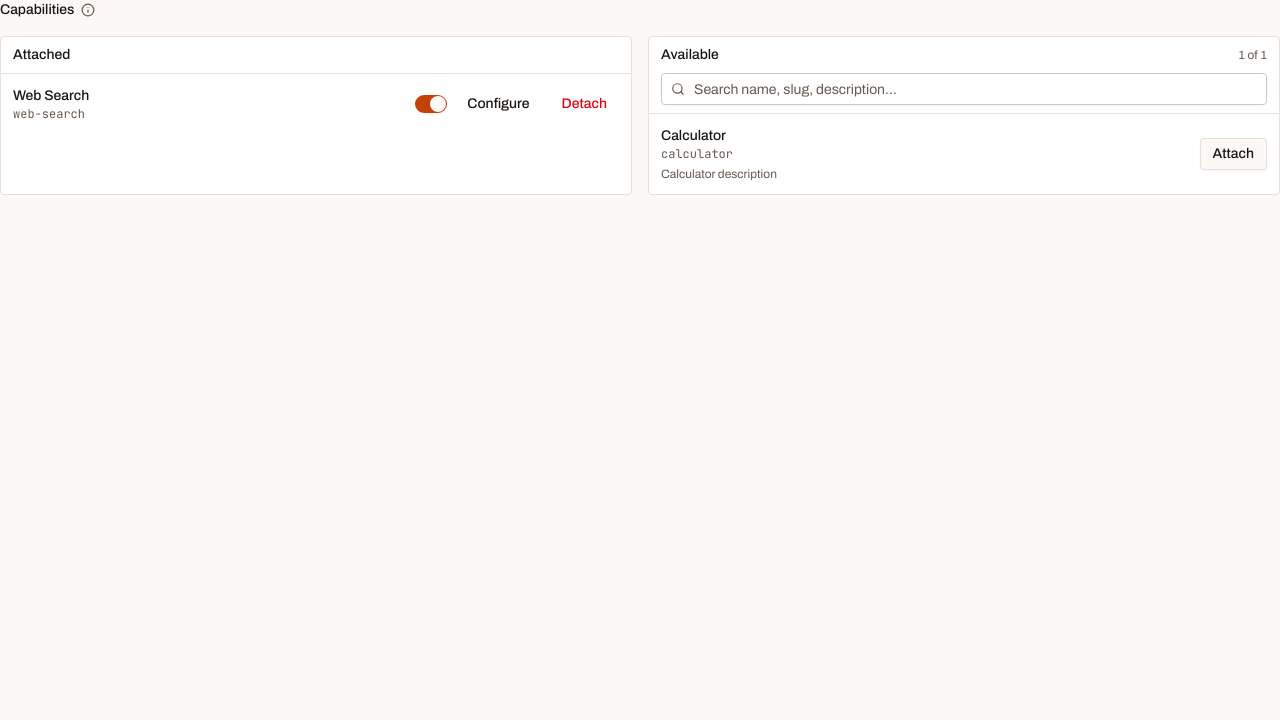
Test: AgentCapabilitiesTab › configure dialog validation › shows JSON parse error when customConfig is invalid JSON
Check: the text "Web Search" is shown, box x1=13 y1=86 x2=89 y2=106
Click the button "Configure" at (498, 104), box x1=455 y1=88 x2=542 y2=120
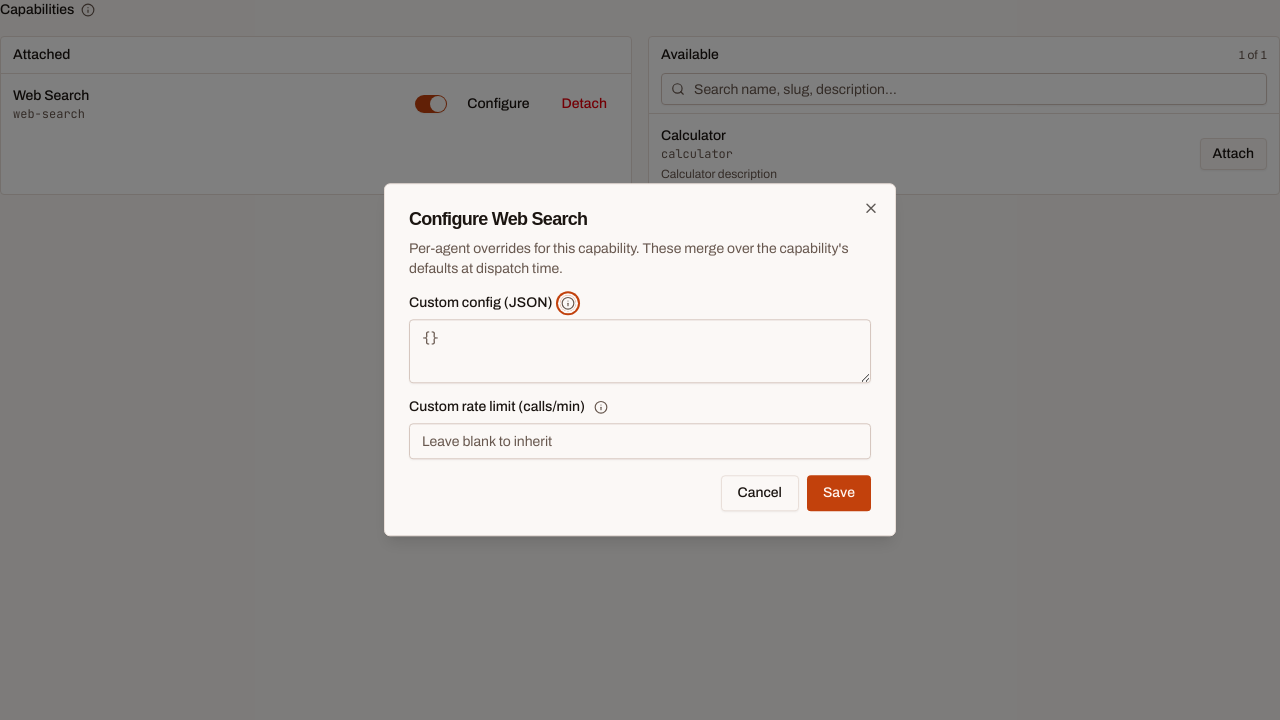
Check: the heading "Configure Web Search" is shown, box x1=409 y1=209 x2=587 y2=229
# type invalid JSON into config textarea
Type "not-valid-json" into the text box labelled "Custom config (JSON)" at (640, 352), box x1=409 y1=320 x2=871 y2=384
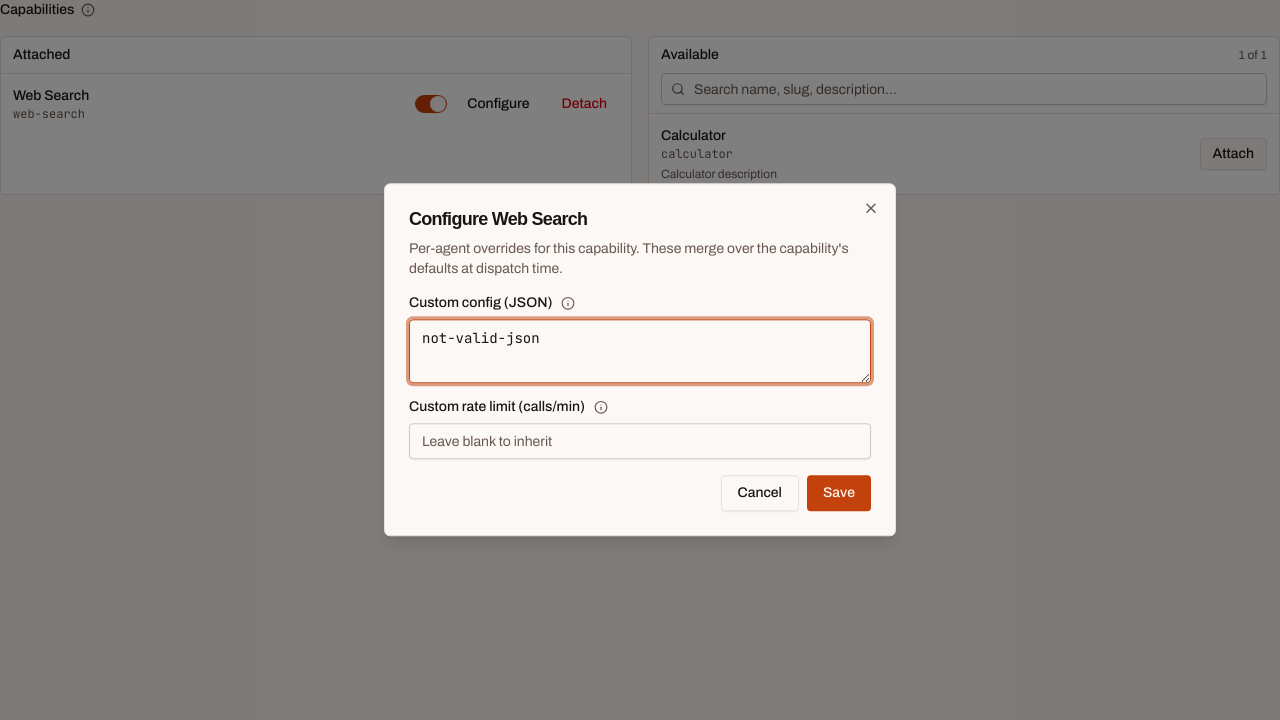
Click the button "Save" at (839, 494), box x1=807 y1=476 x2=871 y2=512
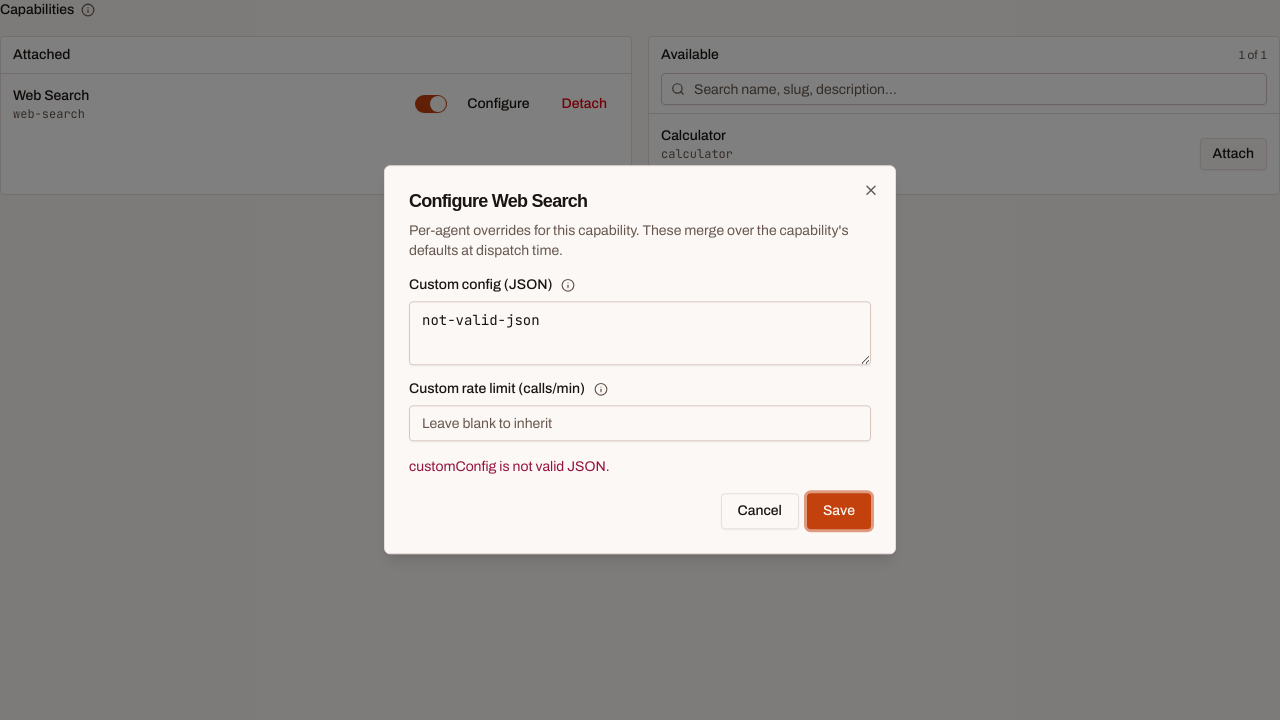
Check: the text "customConfig is not valid JSON." is shown, box x1=409 y1=460 x2=610 y2=475
